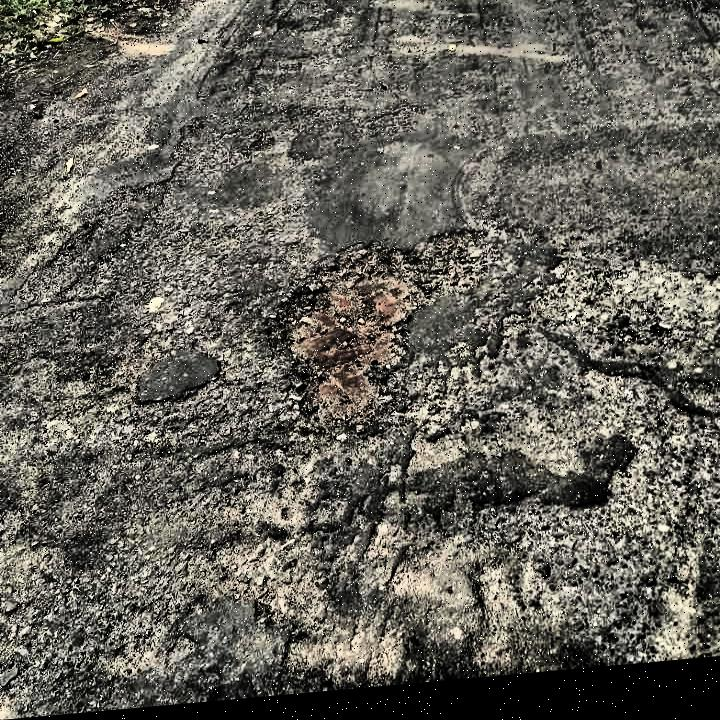pothole: (264, 230, 494, 445)
